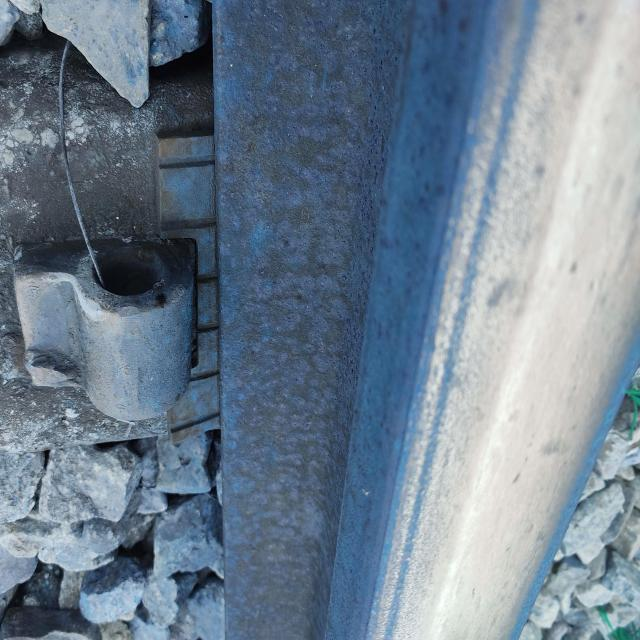Missing Fastener: (0, 214, 205, 441)
